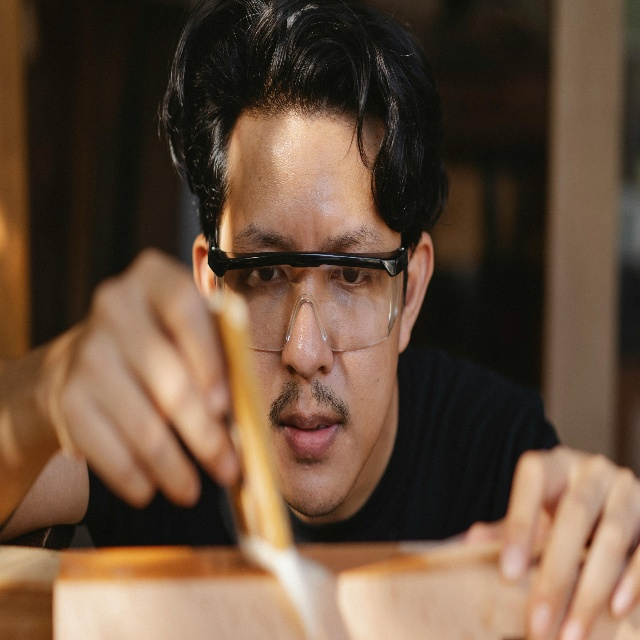Gafas: (204, 240, 406, 353)
Sin_guantes: (40, 247, 243, 508), (466, 446, 640, 640)
